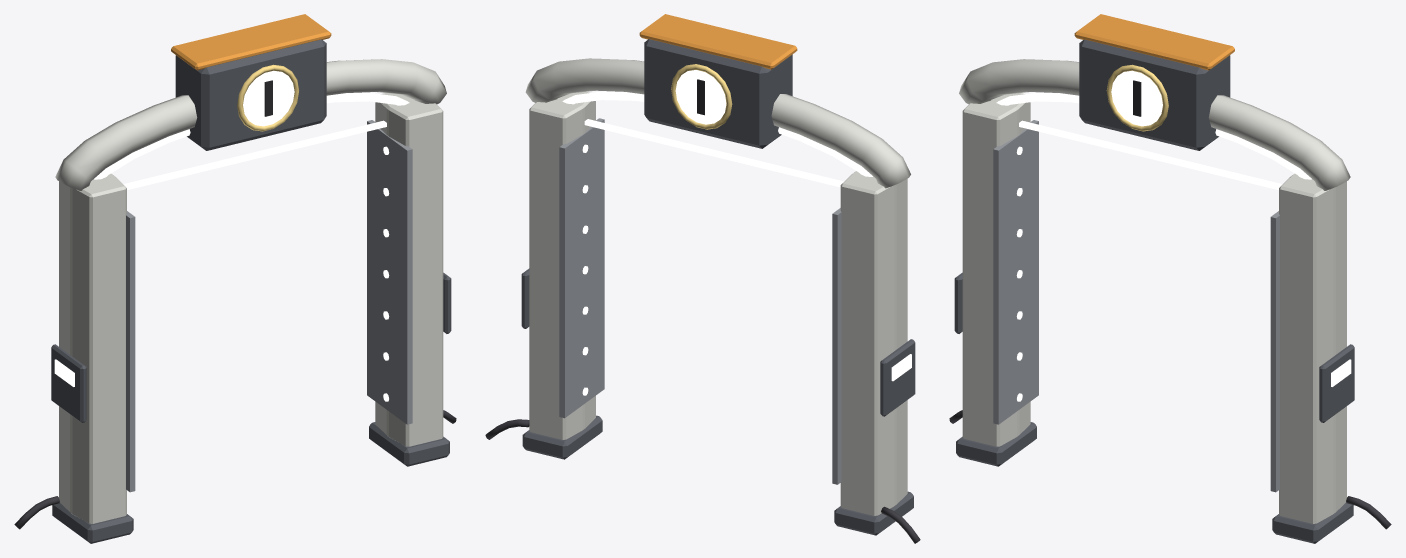
File: arch_toll.glb
3 views of the same model, side by side, from view 1: azimuth 30°, elevation 25°; view 2: azimuth 150°, elevation 25°; view 3: azimuth 330°, elevation 25° (orthographic).
Parts seen in each view (by area): view 1: arch_toll, scanbar; view 2: arch_toll, scanbar; view 3: arch_toll, scanbar.
Part boxes in pixels (<box>): arch_toll: <box>14,14,456,543</box>; scanbar: <box>123,120,386,190</box>; arch_toll: <box>485,14,920,543</box>; scanbar: <box>584,119,844,187</box>; arch_toll: <box>949,14,1391,543</box>; scanbar: <box>1019,120,1282,190</box>.
Bounding box in the file's own units: 4.04 × 3.93 × 0.64.
